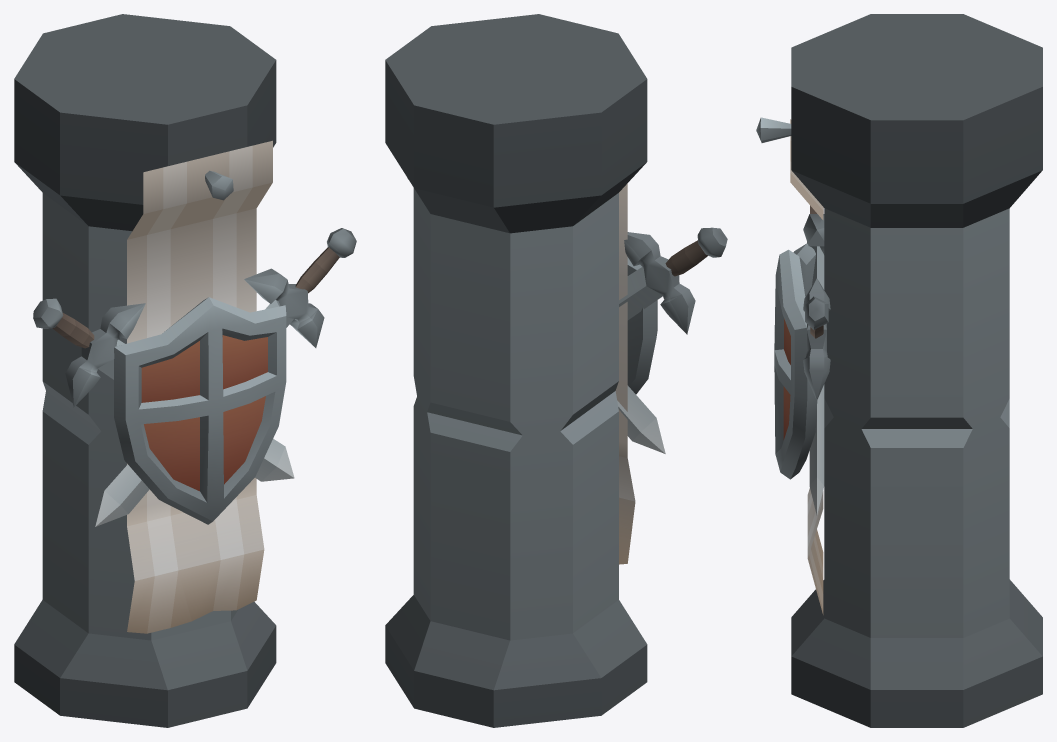
Rendered from pillar_deco.fbx.
The picture shows the model from 3 angles, left to right: view 1: azimuth 30°, elevation 25°; view 2: azimuth 150°, elevation 25°; view 3: azimuth 270°, elevation 25°; orthographic projection.
Parts seen in each view (by area): view 1: pillar_decorated; view 2: pillar_decorated; view 3: pillar_decorated.
Boxes of the visible parts, <box> form: pillar_decorated: <box>14,14,356,727</box>; pillar_decorated: <box>385,14,727,727</box>; pillar_decorated: <box>756,14,1042,727</box>.
Bounding box in the file's own units: 223 × 400 × 171.
Materials: 1 (1 with a texture image).
